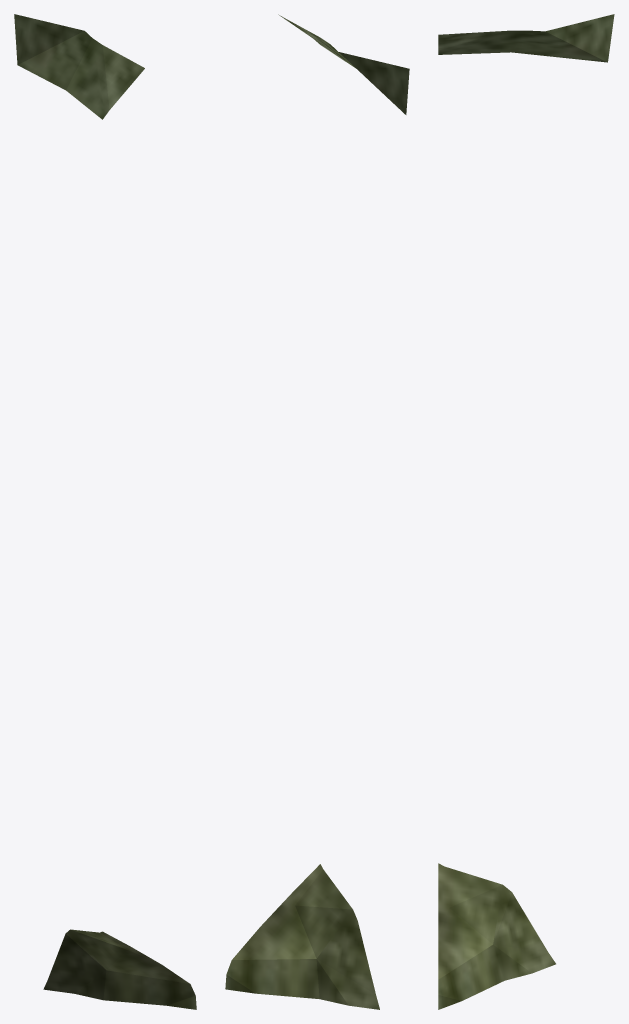
The picture shows the model from 3 angles, left to right: view 1: azimuth 30°, elevation 25°; view 2: azimuth 210°, elevation 25°; view 3: azimuth 270°, elevation 25°; orthographic projection.
Bounding box in the file's own units: 0.3048 × 2.95 × 0.4953.
1 material, 1 textured.
